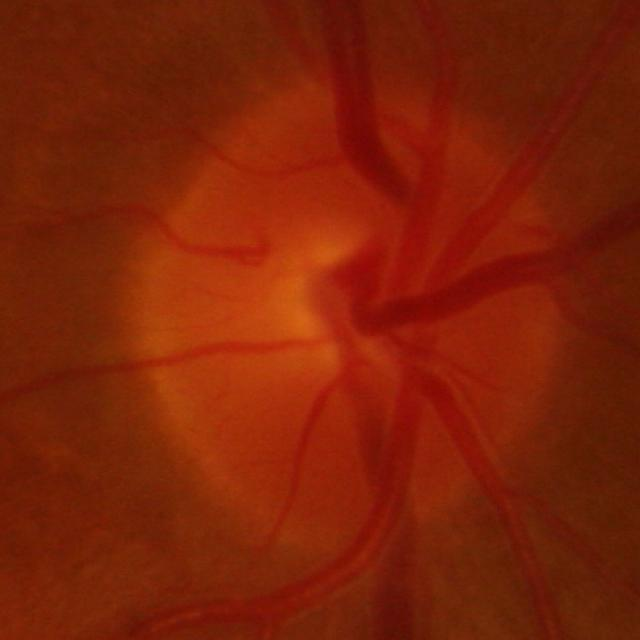OC: (257, 230, 395, 370)
OD: (125, 97, 560, 542)
